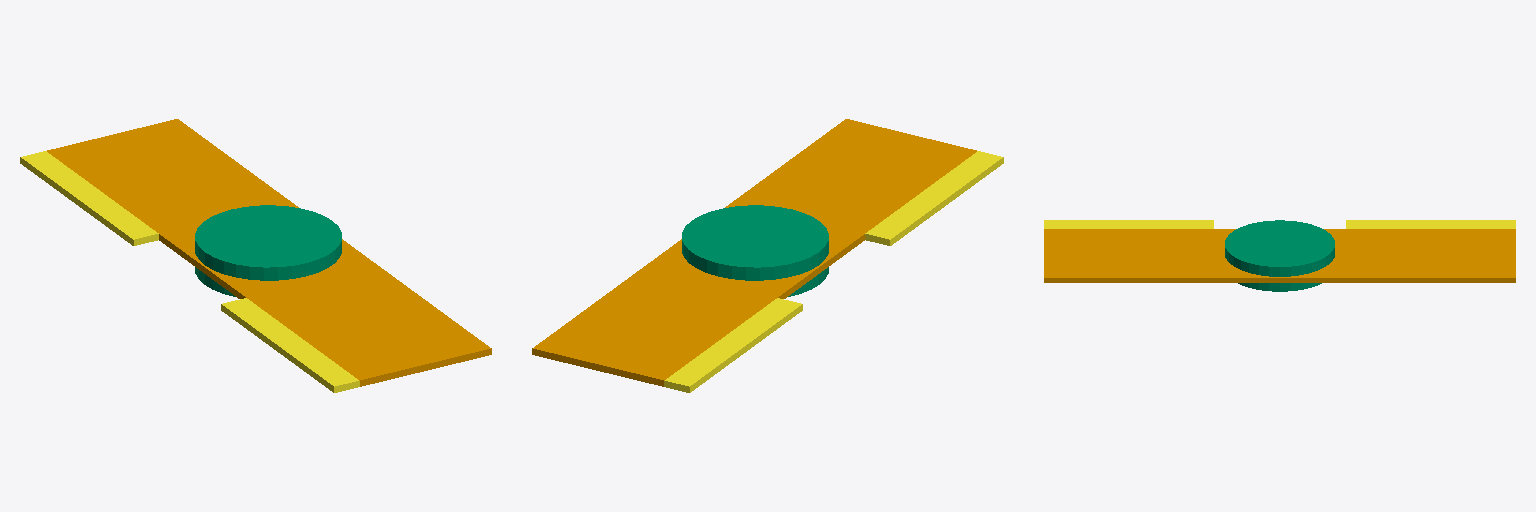
The robot description file, URDF, robot "TBSC_visualizer":
<?xml version="1.0"?>

<robot xmlns="http://drake.mit.edu"
 xmlns:xsi="http://www.w3.org/2001/XMLSchema-instance"
 xsi:schemaLocation="http://drake.mit.edu ../../doc/drakeURDF.xsd" name="TBSC_visualizer">

  <link name="fuselage">
    <inertial>
      <mass value="1" />
      <inertia ixx="1" ixy="0" ixz="0" iyy="1" iyz="0" izz="0.083" />
    </inertial>
    <visual>
      <geometry>
         <box size="0.2097 0.8636 0.01" />
      </geometry>
    </visual>
  </link>

  <link name="left_winglet">
    <parent link="fuselage" />
    <inertial>
      <mass value="1" />
      <inertia ixx="1" ixy="0" ixz="0" iyy="1" iyz="0" izz="0.083" />
    </inertial>
    <visual>
      <geometry>
         <origin xyz="-0.08 0.4318 0.081954" rpy="1.57079632679489661923 0 0" />
         <box size="0.1303 0.1492 0.01" />
      </geometry>
    </visual>
  </link>

  <link name="prop">
    <inertial>
      <mass value="1" />
      <inertia ixx="1" ixy="0" ixz="0" iyy="1" iyz="0" izz="0.083" />
    </inertial>
    <visual>
      <geometry>
         <origin xyz="-0.15 0 0" rpy="0 1.57079632679489661923 0" />
         <cylinder length="0.05" radius="0.1016" />
      </geometry>
    </visual>
  </link>

  <link name="right_winglet">
    <inertial>
      <mass value="1" />
      <inertia ixx="1" ixy="0" ixz="0" iyy="1" iyz="0" izz="0.083" />
    </inertial>
    <visual>
      <geometry>
         <origin xyz="-0.08 -0.4318 0.081954" rpy="1.57079632679489661923 0 0" />
         <box size="0.1303 0.1492 0.01" />
      </geometry>
    </visual>
  </link>


  <link name="left_elevon">
    <inertial>
      <mass value="1" />
      <origin xyz="-0.0201 0.276225 0" rpy="0 0 0" />
      <inertia ixx="1" ixy="0" ixz="0" iyy="1" iyz="0" izz="0.083" />
    </inertial>
    <visual>
      <origin xyz="-0.0201 0.276225 0" rpy="0 0 0" />
      <geometry>
         <box size="0.0402 0.31115 0.01" />
      </geometry>
      <material name="red">
        <color rgba="1 .949 .211 1" />
      </material>
    </visual>
  </link>

  <link name="right_elevon">
    <inertial>
      <mass value="1" />
      <origin xyz="-0.0201 -0.276225 0" rpy="0 0 0" />
      <inertia ixx="1" ixy="0" ixz="0" iyy="1" iyz="0" izz="0.083" />
    </inertial>
    <visual>
      <origin xyz="-0.0201 -0.276225 0" rpy="0 0 0" />
      <geometry>
         <box size="0.0402 0.31115 0.01" />
      </geometry>
      <material name="red">
        <color rgba="1 .949 .211 1" />
      </material>
    </visual>
  </link>

  <joint name="left_elevon_joint" type="continuous">
    <parent link="fuselage" />
    <child link="left_elevon" />
    <origin xyz="-0.10485 0 0" />
    <axis xyz="0 1 0" />
  </joint>

  <joint name="right_elevon_joint" type="continuous">
    <parent link="fuselage" />
    <child link="right_elevon" />
    <origin xyz="-0.10485 0 0" />
    <axis xyz="0 1 0" />
  </joint>

  <joint name="left_winglet_joint" type="fixed">
    <parent link="fuselage" />
    <child link="left_winglet" />
    <origin xyz="0 0 0" />
    <axis xyz="0 1 0" />
  </joint>

  <joint name="right_winglet_joint" type="fixed">
    <parent link="fuselage" />
    <child link="right_winglet" />
    <origin xyz="0 0 0" />
    <axis xyz="0 1 0" />
  </joint>

  <joint name="prop_joint" type="continuous">
    <parent link="fuselage" />
    <child link="prop" />
    <origin xyz="0 0 0" />
    <axis xyz="1 0 0" />
  </joint>


</robot>

--- Facts derived from the render (not from the file) ---
Views: 3 orthographic renders of the robot side by side, from view 1: azimuth 30°, elevation 25°; view 2: azimuth 150°, elevation 25°; view 3: azimuth 270°, elevation 25°.
Model TBSC_visualizer with 6 links and 5 joints (3 continuous, 2 fixed), rooted at fuselage, posed all joints at 0.
Links seen in each view (by area): view 1: fuselage, prop, right_elevon, left_elevon; view 2: fuselage, prop, left_elevon, right_elevon; view 3: fuselage, prop, left_elevon, right_elevon.
Link boxes in pixels (x1,y1,x2,y2): fuselage: [47, 119, 491, 386]; prop: [195, 205, 341, 296]; right_elevon: [221, 298, 359, 392]; left_elevon: [20, 151, 158, 245]; fuselage: [532, 119, 976, 386]; prop: [682, 205, 828, 296]; left_elevon: [664, 298, 802, 392]; right_elevon: [865, 151, 1003, 245]; fuselage: [1044, 229, 1515, 282]; prop: [1225, 220, 1334, 291]; left_elevon: [1346, 220, 1515, 228]; right_elevon: [1044, 220, 1213, 228].
Bounding box of the posed robot: 0.2499 × 0.8636 × 0.05 m (x, y, z).
Geometry: primitives only (box / cylinder / sphere), no mesh files.